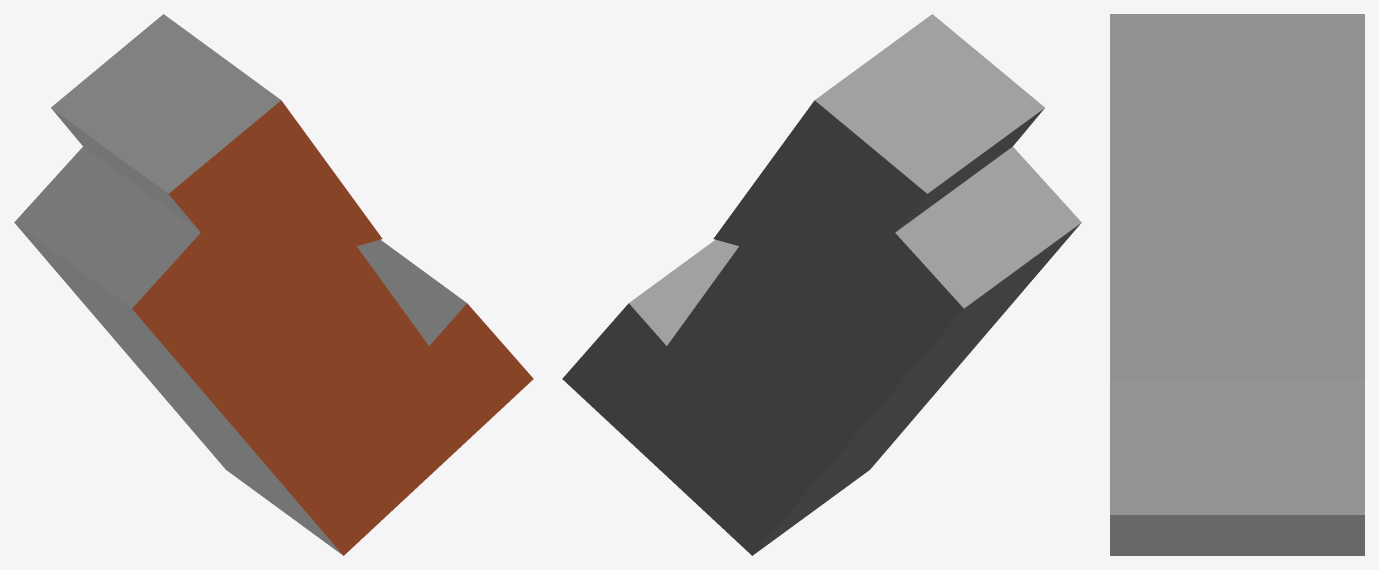
File: construction_2952_assumed_A_Casa_h6m.obj
3 views of the same model, side by side, from view 1: azimuth 30°, elevation 25°; view 2: azimuth 150°, elevation 25°; view 3: azimuth 270°, elevation 25° (orthographic). The views are drawn at different scales.
Visible parts, largest first — view 1: construction_2952_assumed_A_Casa; view 2: construction_2952_assumed_A_Casa; view 3: construction_2952_assumed_A_Casa.
Boxes of the visible parts, box(x1,y1,x2,y2) form: construction_2952_assumed_A_Casa: box(14, 14, 533, 555); construction_2952_assumed_A_Casa: box(562, 14, 1081, 555); construction_2952_assumed_A_Casa: box(1110, 14, 1364, 555).
Size of the model in its own units: 11.82 by 13.23 by 6.
